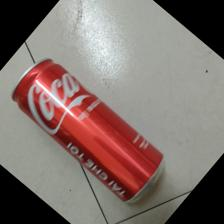Coca: (12, 58, 165, 205)
